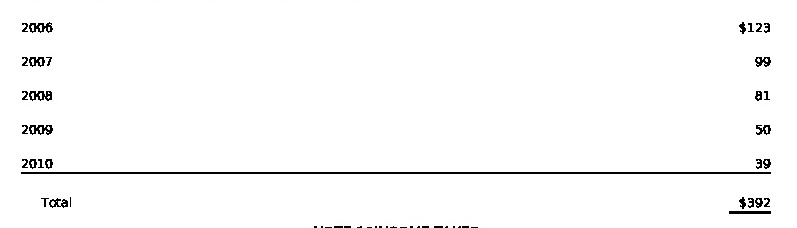table: (0, 0, 797, 228)
